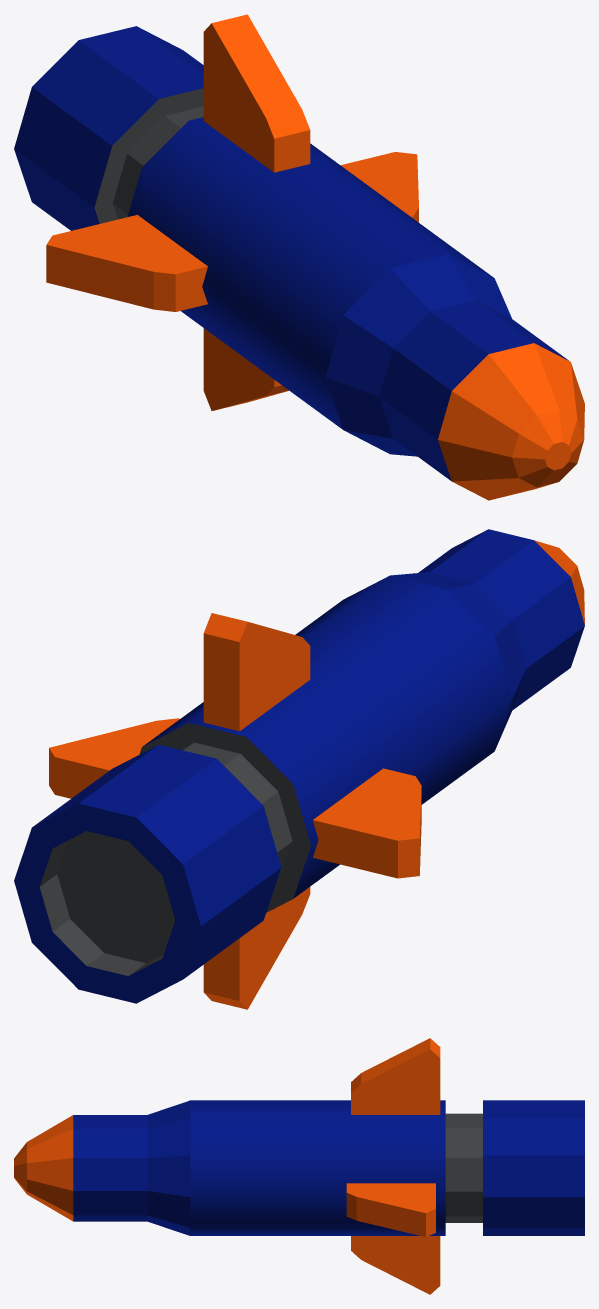
The model's file is rocket.obj.
3 renders of one model, top to bottom at view 1: azimuth 30°, elevation 25°; view 2: azimuth 150°, elevation 25°; view 3: azimuth 270°, elevation 25°, orthographic. The views are drawn at different scales.
Visible parts, largest first — view 1: Cylinder001; view 2: Cylinder001; view 3: Cylinder001.
Part boxes in pixels (left/top/right/bottom): Cylinder001: left=14, top=14, right=584, bottom=500; Cylinder001: left=14, top=529, right=584, bottom=1009; Cylinder001: left=14, top=1038, right=584, bottom=1294.
Bounding box in the file's own units: 17.46 × 17.46 × 36.75.
